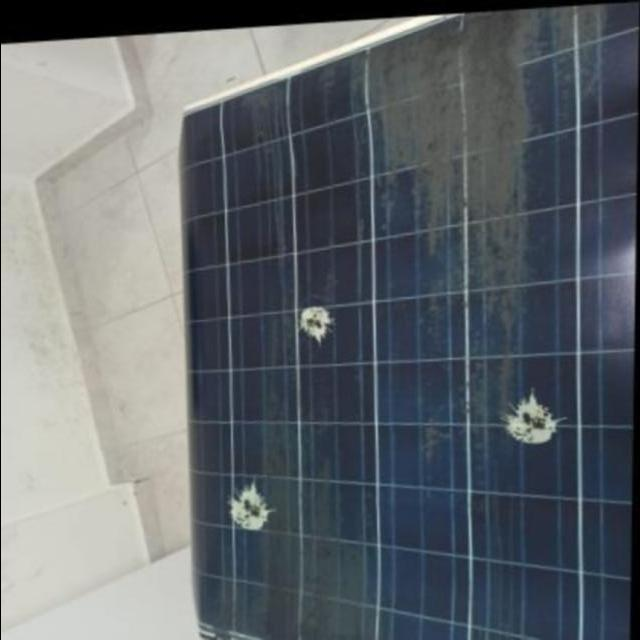soiled: (186, 3, 637, 639)
